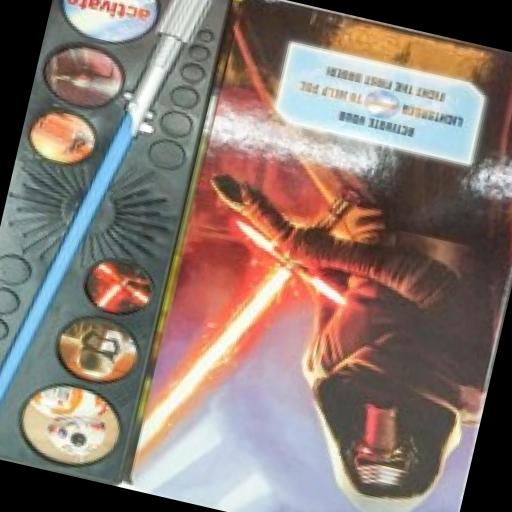lightsaber: (0, 0, 211, 477)
sith saber: (132, 154, 374, 504)
